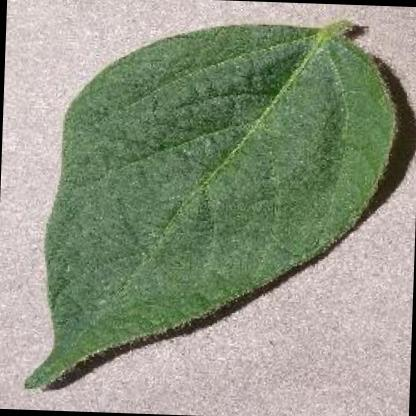soy: (0, 3, 408, 408)
